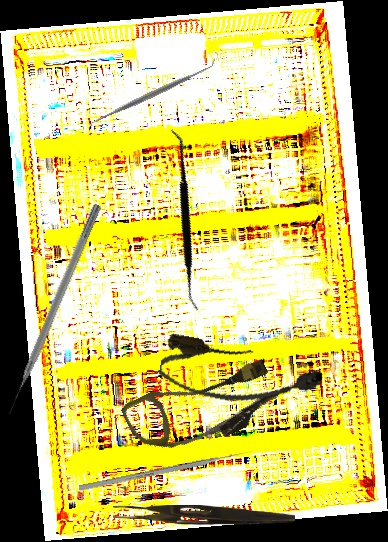Cannula: (119, 342, 286, 473), (156, 332, 325, 418)
Dressing Forceps: (113, 505, 295, 525)
Pusher: (2, 202, 103, 416), (78, 448, 254, 492)
Spatula Surgical: (99, 128, 270, 312), (85, 56, 221, 131)
